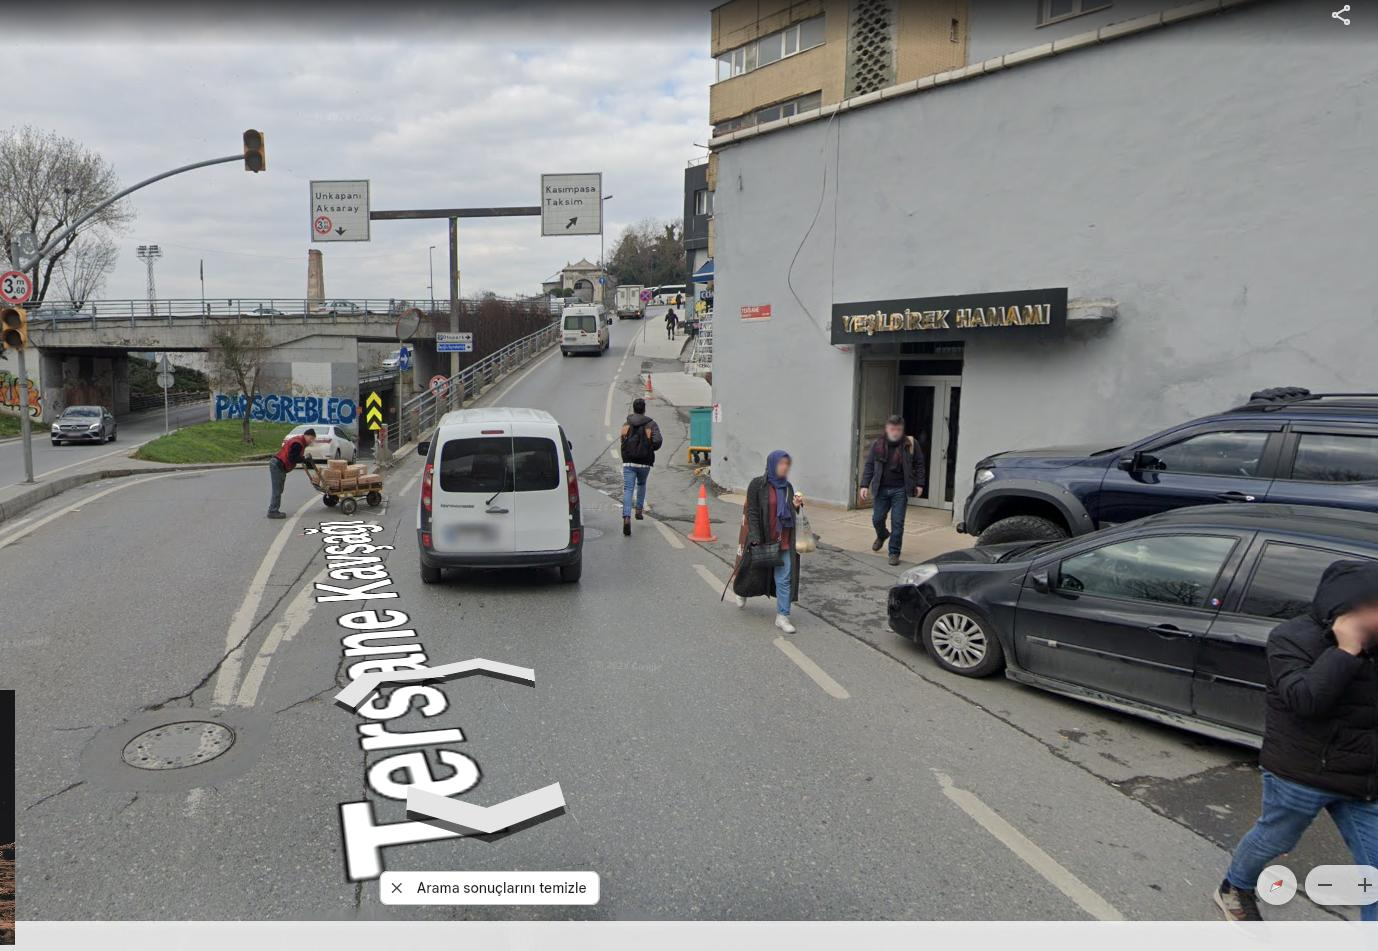turnright: (400, 346, 409, 370)
